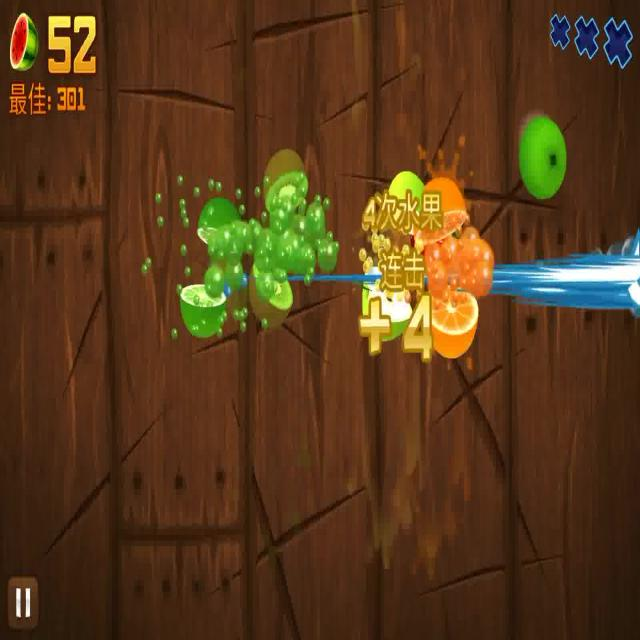fruit: (516, 114, 566, 197), (426, 288, 480, 356), (362, 268, 413, 338), (260, 153, 311, 217), (416, 180, 472, 235), (249, 257, 291, 325), (178, 282, 228, 335), (199, 194, 240, 250), (391, 166, 418, 225)
